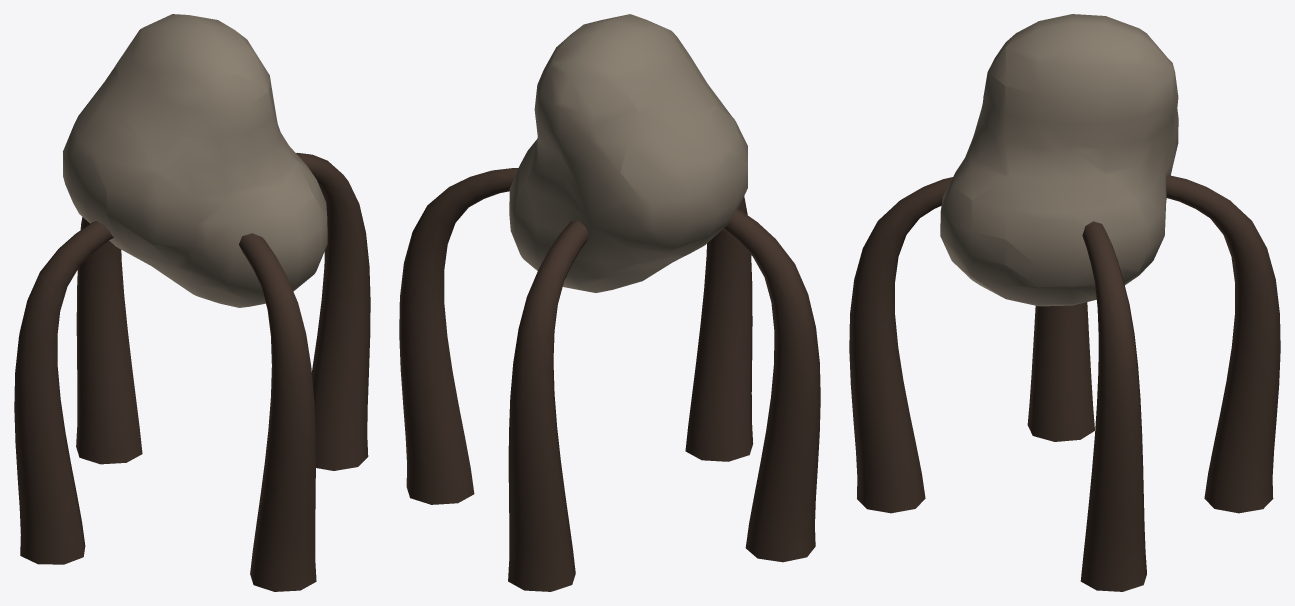
File: quaternius-ultimate-space-pack-tree-blob-3-transformed.glb
The picture shows the model from 3 angles, left to right: view 1: azimuth 30°, elevation 25°; view 2: azimuth 150°, elevation 25°; view 3: azimuth 270°, elevation 25°; orthographic projection. The views are drawn at different scales.
Visible parts, largest first — view 1: Tree_Blob_3; view 2: Tree_Blob_3; view 3: Tree_Blob_3.
Boxes of the visible parts, x1,y1,x2,y2 form: Tree_Blob_3: (14,14,370,591); Tree_Blob_3: (399,14,820,591); Tree_Blob_3: (849,14,1280,591).
Size of the model in its own units: 2.8 by 3.42 by 2.77.
1 material, 1 textured.
